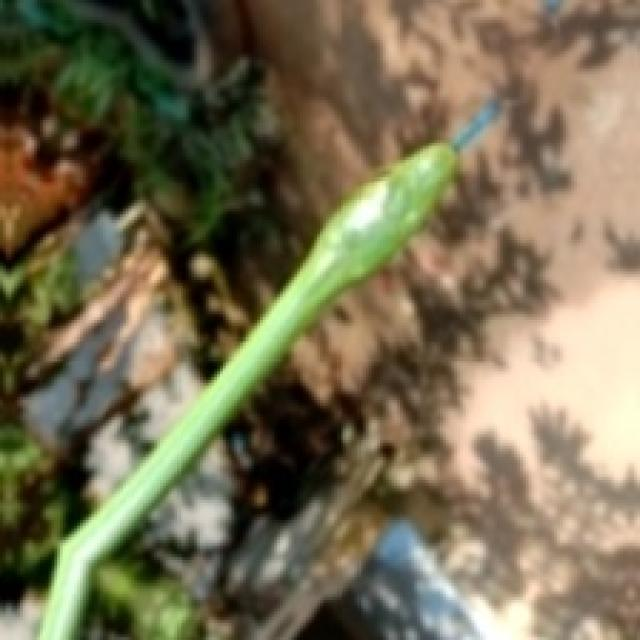red-tailed green ratsnake: (38, 98, 498, 639)
